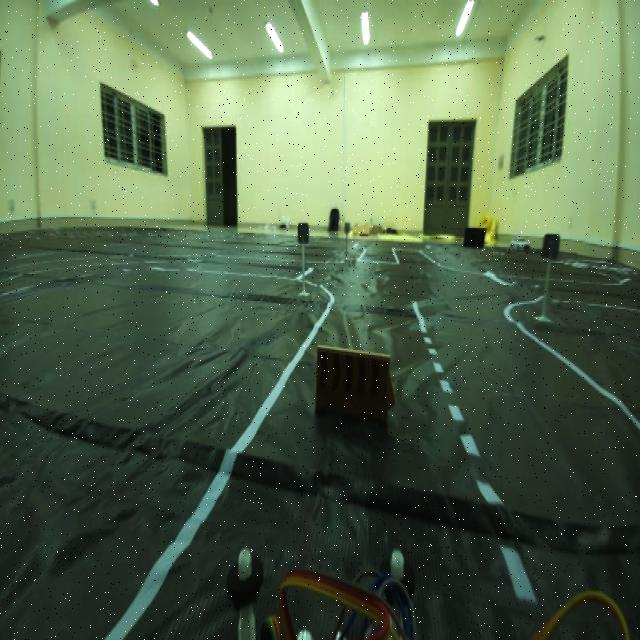roadblock: (312, 334, 407, 444)
